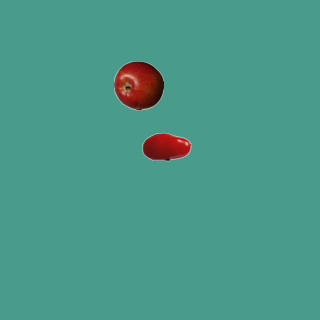Apple Braeburn: (113, 60, 163, 110)
Tomato 2: (141, 121, 191, 171)
